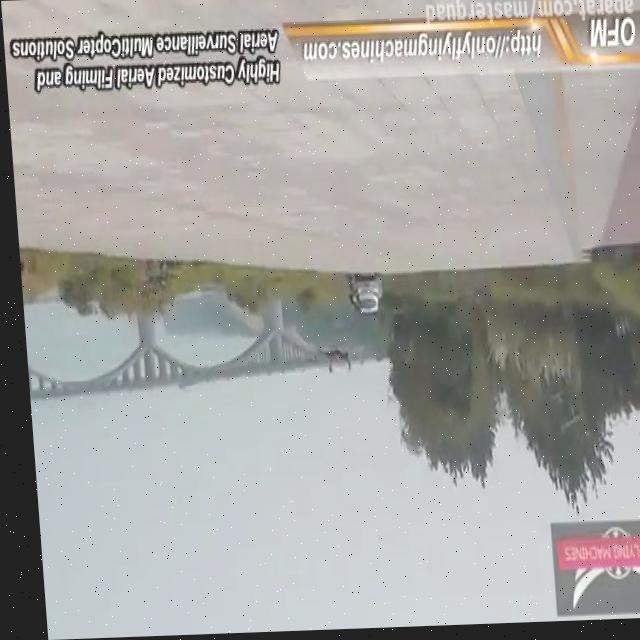drone: (316, 349, 348, 381)
